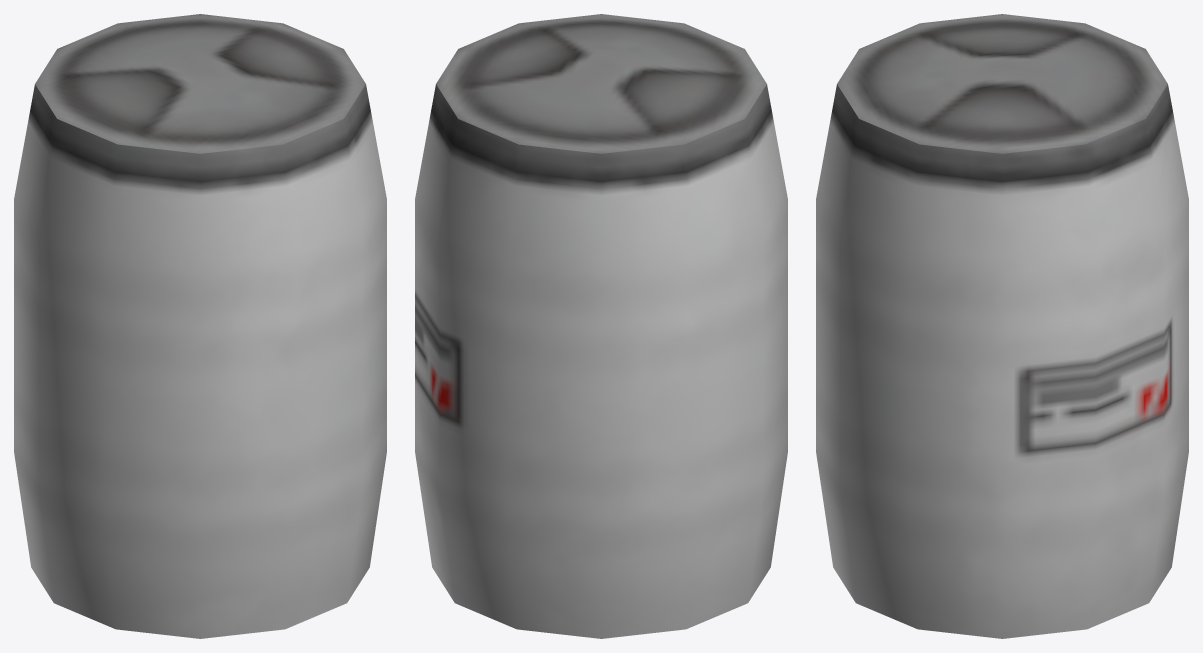
Rendered from Prfb_WaterButt.fbx.
3 renders of one model, left to right at view 1: azimuth 30°, elevation 25°; view 2: azimuth 150°, elevation 25°; view 3: azimuth 270°, elevation 25°, orthographic.
Parts seen in each view (by area): view 1: Mat_WaterTankButt_01_R1; view 2: Mat_WaterTankButt_01_R1; view 3: Mat_WaterTankButt_01_R1.
Boxes of the visible parts, x1,y1,x2,y2 form: Mat_WaterTankButt_01_R1: (14, 14, 386, 638); Mat_WaterTankButt_01_R1: (415, 14, 787, 638); Mat_WaterTankButt_01_R1: (816, 14, 1188, 638).
Bounding box in the file's own units: 0.868 × 1.29 × 0.868.
Materials: 1 (1 with a texture image).
